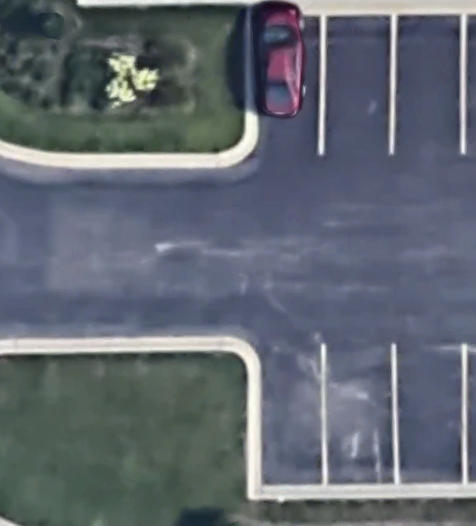Occupied: (250, 12, 322, 155)
Vacant: (324, 342, 397, 490), (393, 342, 466, 488), (392, 11, 464, 155), (322, 12, 392, 156), (257, 342, 325, 489)
